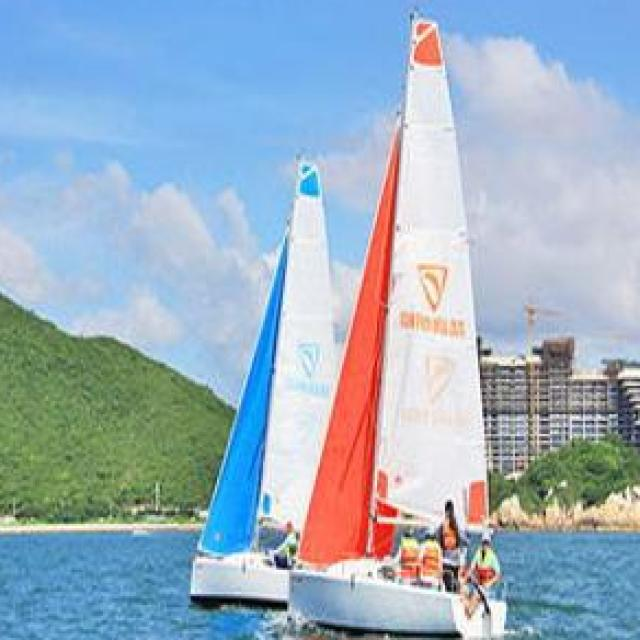sailboat: (298, 2, 511, 640), (184, 148, 342, 600)
